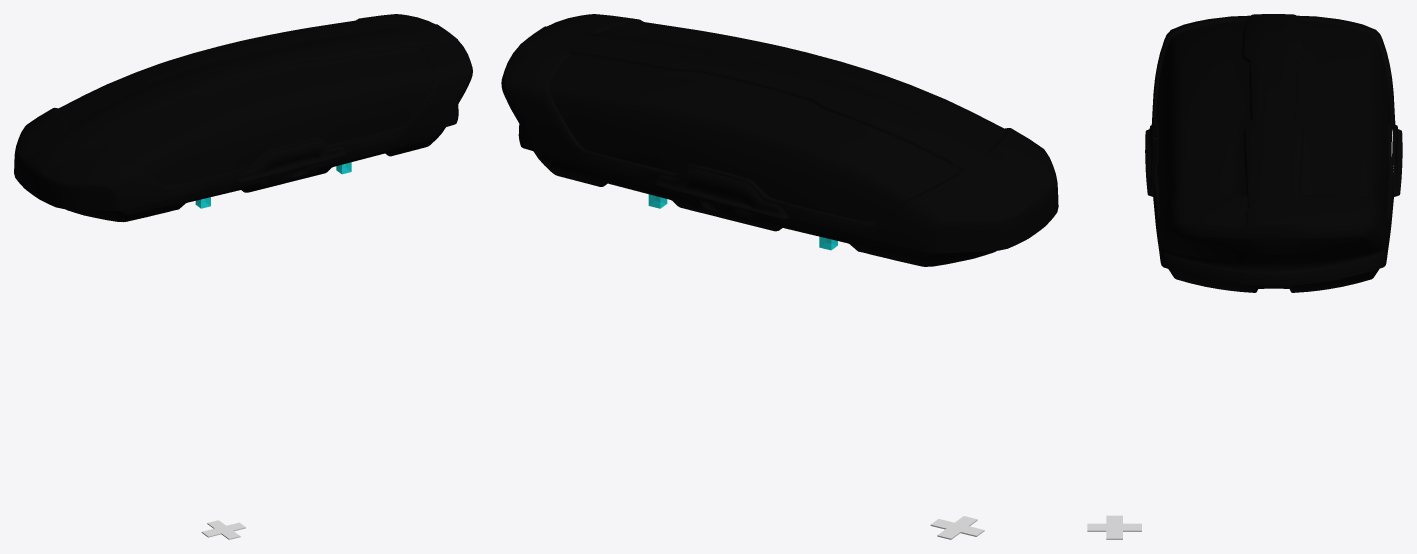
The model's file is PlusOut.glb.
3 views of the same model, side by side, from view 1: azimuth 30°, elevation 25°; view 2: azimuth 150°, elevation 25°; view 3: azimuth 270°, elevation 25° (orthographic). The views are drawn at different scales.
Visible parts, largest first — view 1: XT_XL_low; view 2: XT_XL_low; view 3: XT_XL_low, Box006, Box007.
Part boxes in pixels (x1,y1,x2,y2): XT_XL_low: [14, 14, 472, 222]; XT_XL_low: [501, 14, 1058, 266]; XT_XL_low: [1145, 14, 1402, 292]; Box006: [1087, 523, 1141, 531]; Box007: [1106, 515, 1122, 539].
Bounding box in the file's own units: 2.14 × 1.95 × 1.11.
Materials: 3 (2 with a texture image).
